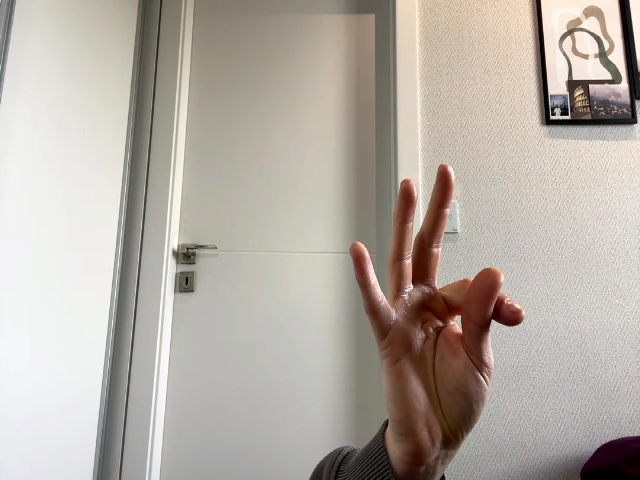T: (350, 164, 526, 437)
